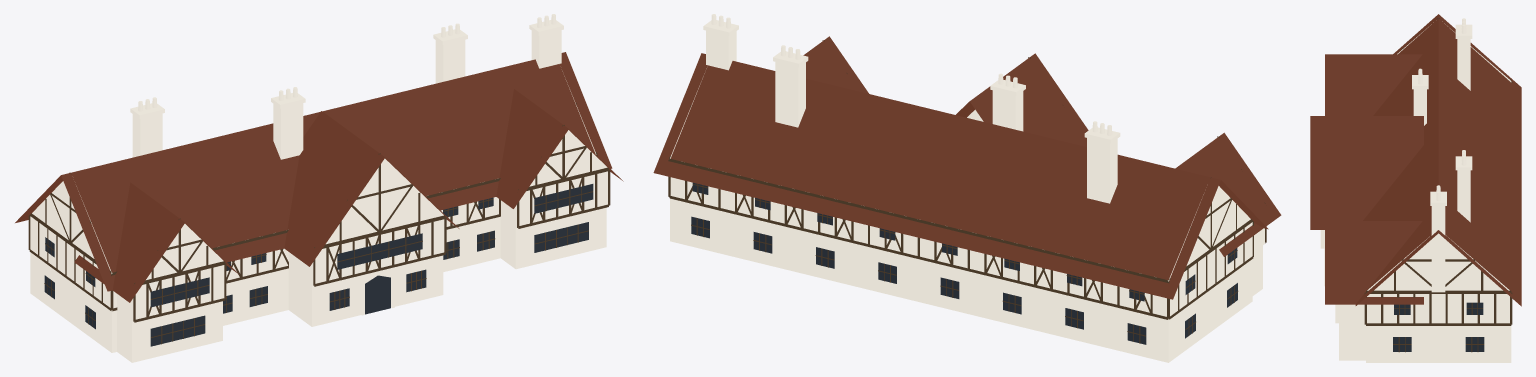
Rendered from Blender_TudorClubhouse_1.glb.
3 views of the same model, side by side, from view 1: azimuth 30°, elevation 25°; view 2: azimuth 150°, elevation 25°; view 3: azimuth 270°, elevation 25° (orthographic). The views are drawn at different scales.
Parts seen in each view (by area): view 1: Blender_TudorClubhouse_1; view 2: Blender_TudorClubhouse_1; view 3: Blender_TudorClubhouse_1.
Part boxes in pixels (x1,y1,x2,y2): Blender_TudorClubhouse_1: (15,14,623,362); Blender_TudorClubhouse_1: (653,14,1281,362); Blender_TudorClubhouse_1: (1310,14,1521,362).
Size of the model in its own units: 50 by 18.05 by 20.35.
